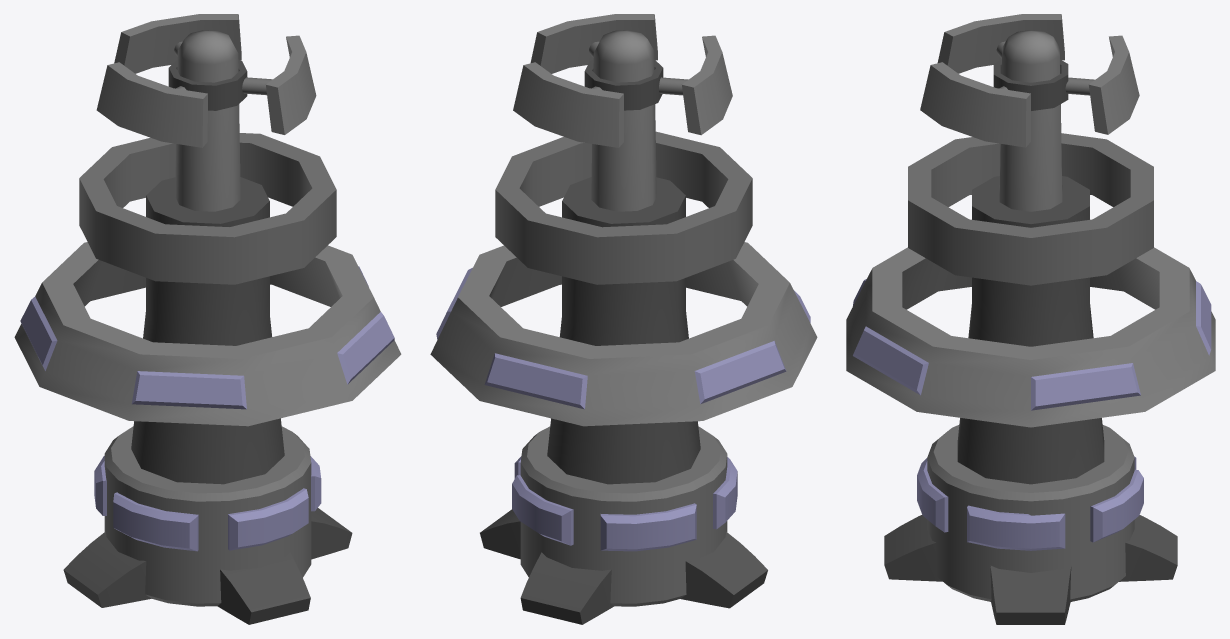
The model's file is Cataliseur.fbx.
The picture shows the model from 3 angles, left to right: view 1: azimuth 30°, elevation 25°; view 2: azimuth 150°, elevation 25°; view 3: azimuth 270°, elevation 25°; orthographic projection.
Parts seen in each view (by area): view 1: Cataliseur; view 2: Cataliseur; view 3: Cataliseur.
Part boxes in pixels (bbox=[...]): Cataliseur: bbox=[14, 14, 401, 624]; Cataliseur: bbox=[430, 14, 817, 624]; Cataliseur: bbox=[846, 14, 1215, 624].
Bounding box in the file's own units: 28.06 × 42.21 × 26.69.
